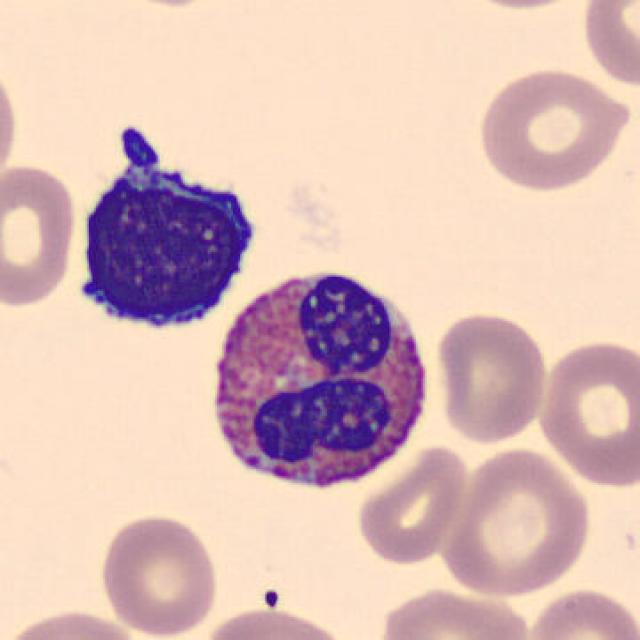Eosinophil: (195, 254, 441, 506)
Lymphocyte: (66, 113, 266, 344)
Platelets: (260, 585, 282, 610)
RBC: (438, 444, 596, 600), (473, 64, 635, 195), (432, 307, 551, 446), (94, 510, 222, 638), (534, 333, 638, 490), (352, 441, 471, 566), (0, 159, 82, 310), (375, 583, 531, 640), (524, 583, 638, 640), (576, 0, 640, 90), (199, 604, 352, 640), (1, 604, 147, 640), (0, 56, 23, 188), (444, 0, 596, 14), (108, 0, 230, 11)
